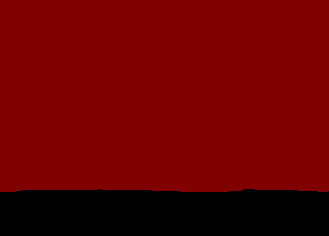Sky: (1, 1, 328, 191)
